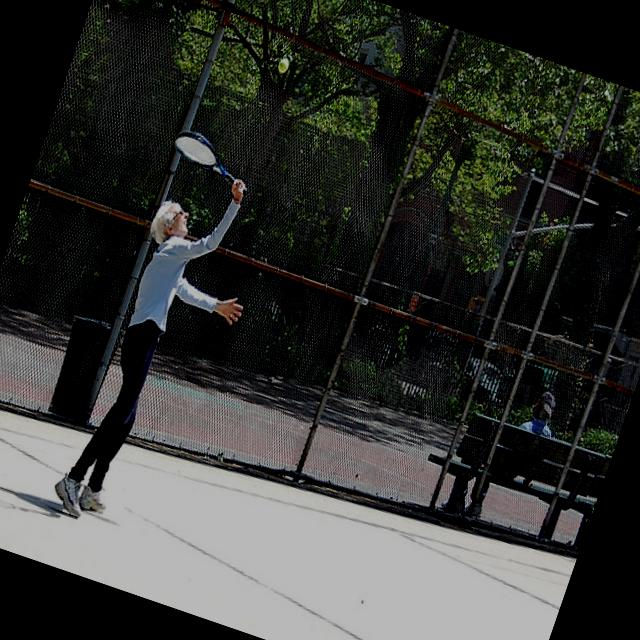Vehicle: (458, 354, 506, 402)
